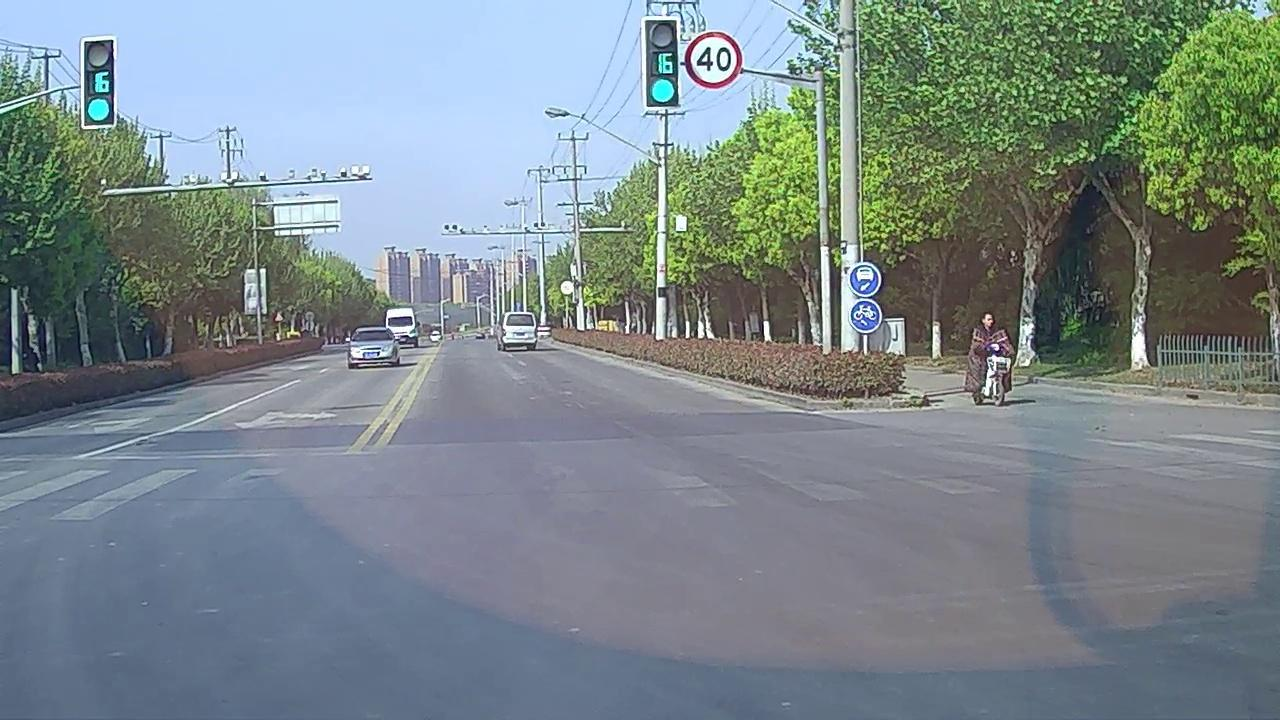traffic_light: (645, 18, 678, 109), (83, 37, 114, 126)
